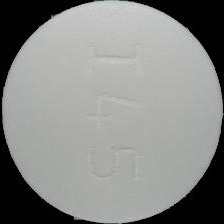0615-7626: (0, 0, 224, 224)
